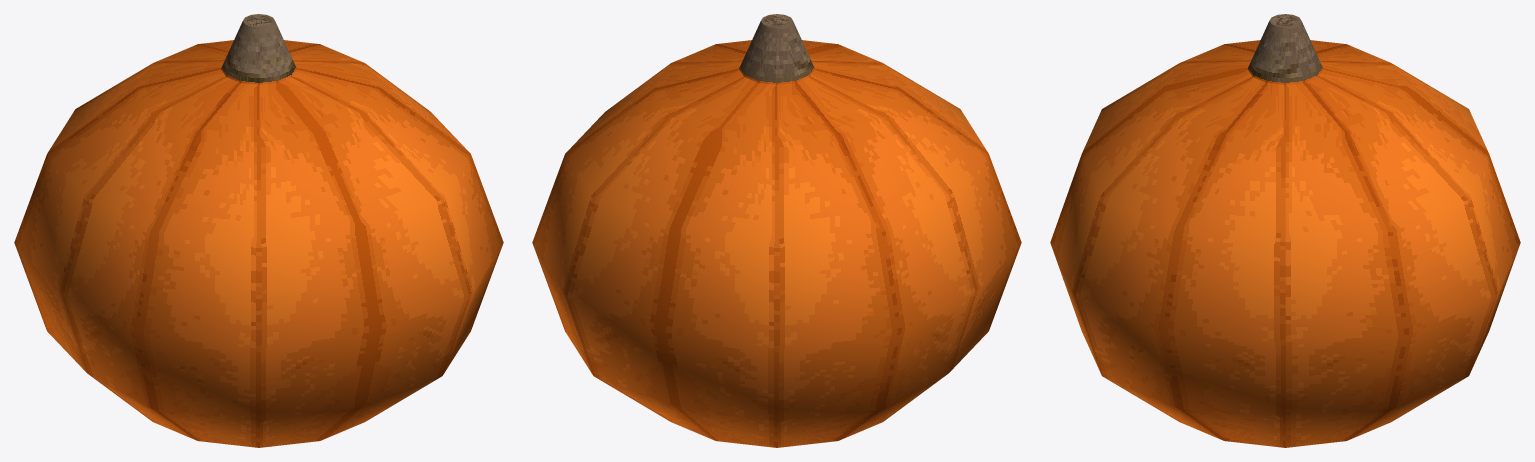
The model's file is Pumpkin.gltf.
3 renders of one model, left to right at view 1: azimuth 30°, elevation 25°; view 2: azimuth 150°, elevation 25°; view 3: azimuth 270°, elevation 25°, orthographic.
Parts seen in each view (by area): view 1: Pumpkin; view 2: Pumpkin; view 3: Pumpkin.
Part boxes in pixels (<box>): Pumpkin: <box>14,14,503,447</box>; Pumpkin: <box>532,14,1021,447</box>; Pumpkin: <box>1050,14,1520,447</box>.
Bounding box in the file's own units: 11.24 × 10.7 × 11.54.
1 material, 1 textured.
